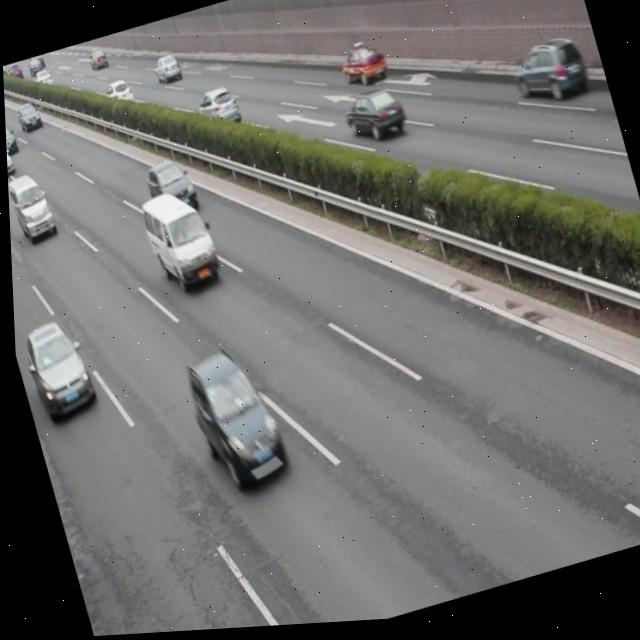car: (177, 338, 288, 499), (15, 312, 96, 420), (502, 34, 590, 116), (337, 83, 408, 154), (138, 153, 199, 225), (334, 43, 389, 96), (192, 82, 240, 137)
truck: (133, 183, 222, 301), (6, 168, 56, 246)
